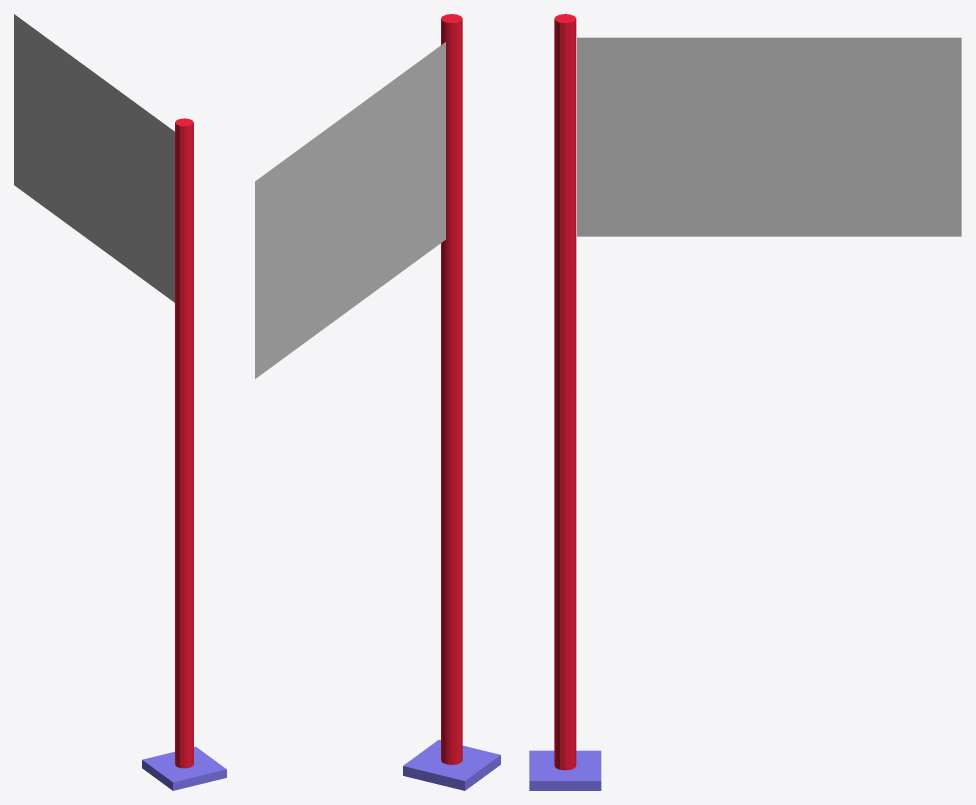
The model's file is Flag.fbx.
3 views of the same model, side by side, from view 1: azimuth 30°, elevation 25°; view 2: azimuth 150°, elevation 25°; view 3: azimuth 270°, elevation 25° (orthographic). The views are drawn at different scales.
Visible parts, largest first — view 1: flag, flagpole; view 2: flag, flagpole; view 3: flag, flagpole.
Boxes of the visible parts, left/top/right/bottom form: flag: left=14, top=14, right=174, bottom=302; flagpole: left=142, top=118, right=226, bottom=790; flag: left=255, top=42, right=445, bottom=378; flagpole: left=403, top=14, right=500, bottom=790; flag: left=577, top=37, right=961, bottom=236; flagpole: left=529, top=14, right=601, bottom=790.
Bounding box in the file's own units: 65.7 × 760 × 393.
